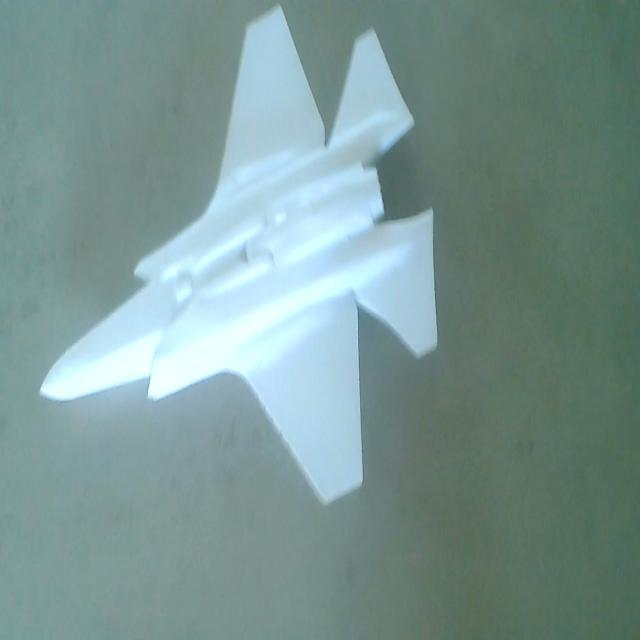Jet: (38, 0, 440, 521)
